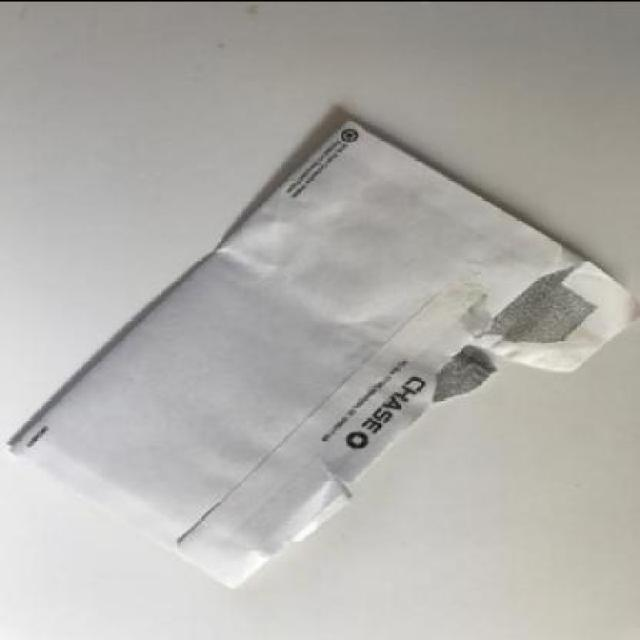cardboard: (4, 107, 638, 590)
